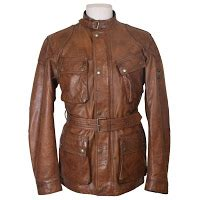cuero: (28, 9, 169, 195)
